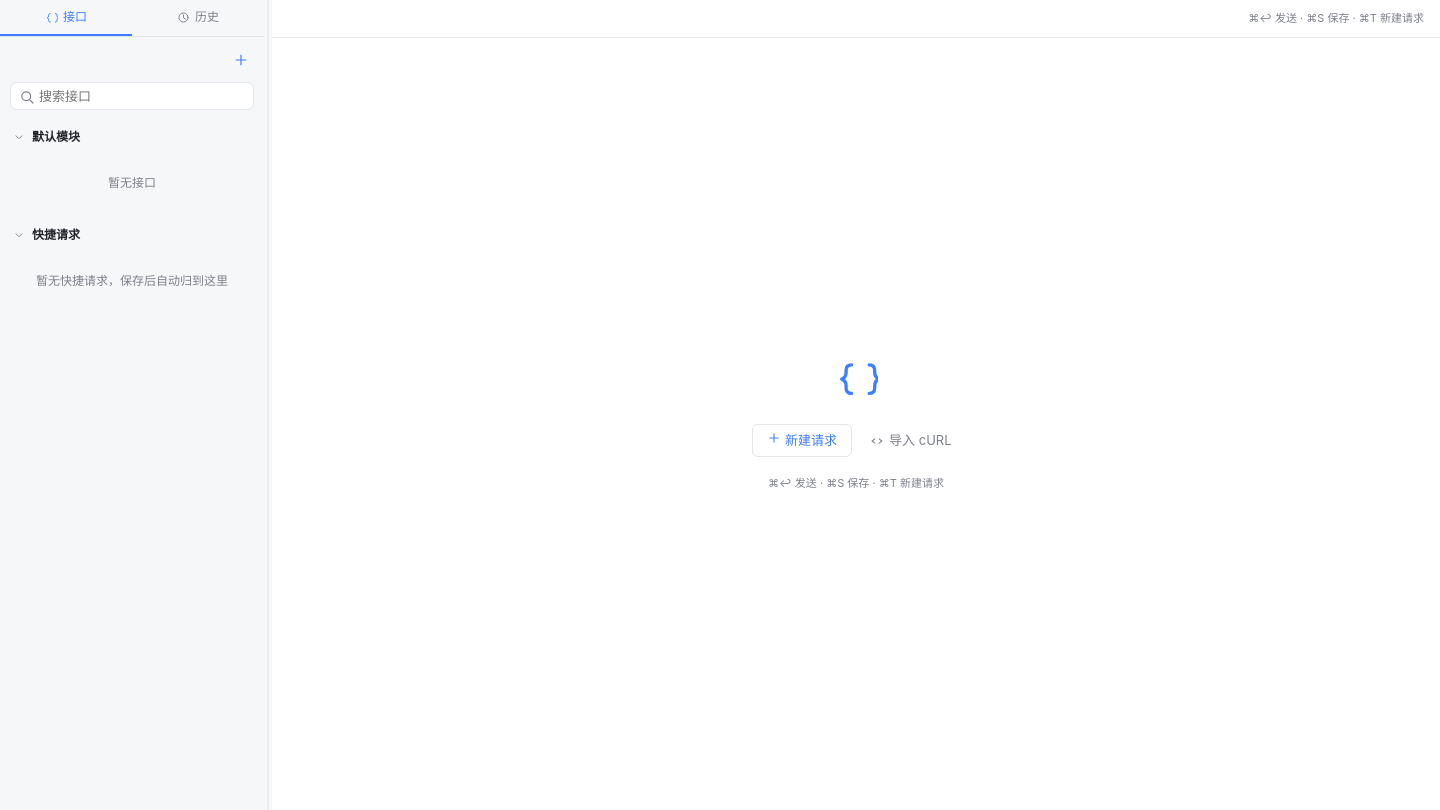
Test: environment config › folds the environment into generated code
Click the button "新建请求" at {"x": 802, "y": 441}, box [752,424,852,457]
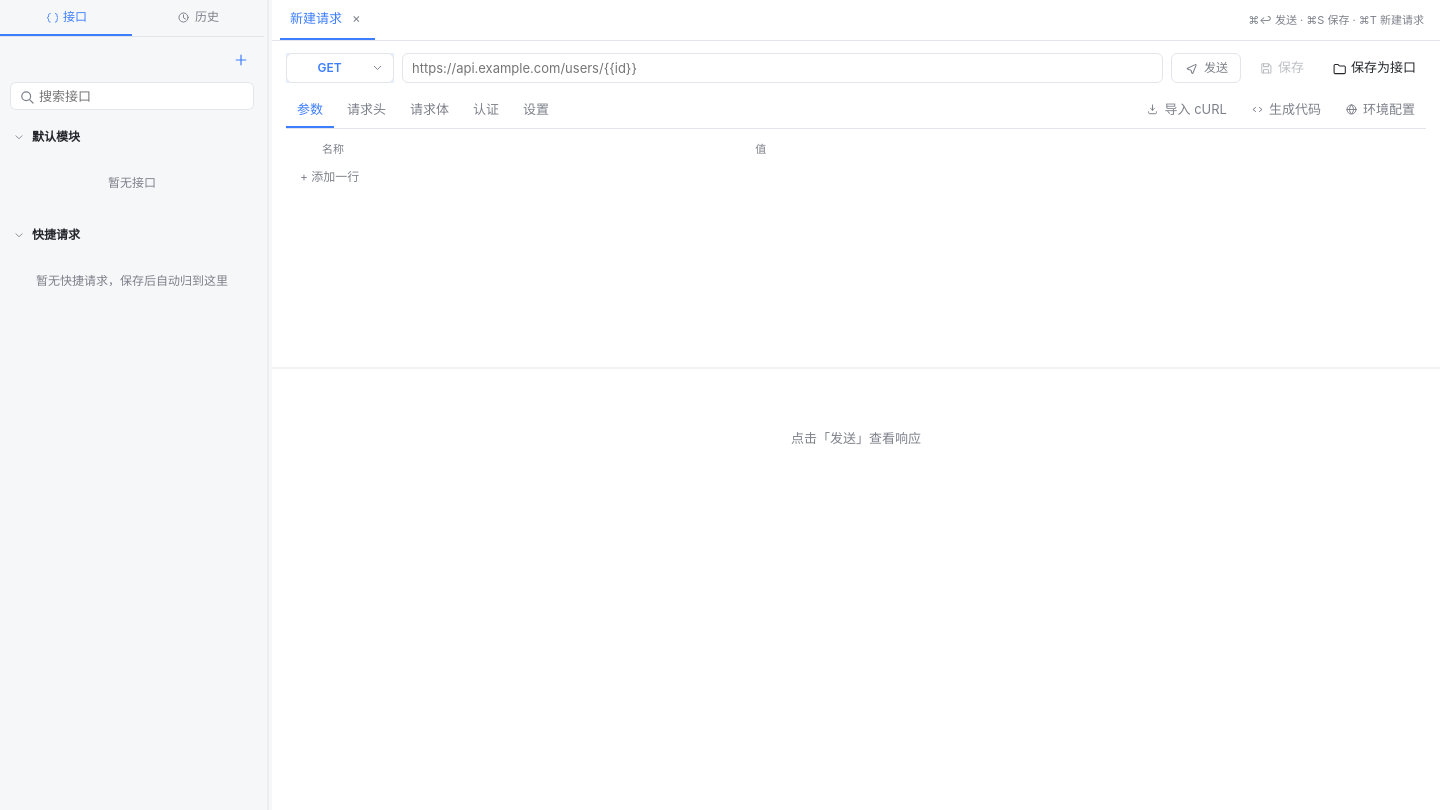
Type "/users/1" into the field named "地址" at {"x": 782, "y": 68}, box [402,52,1163,82]
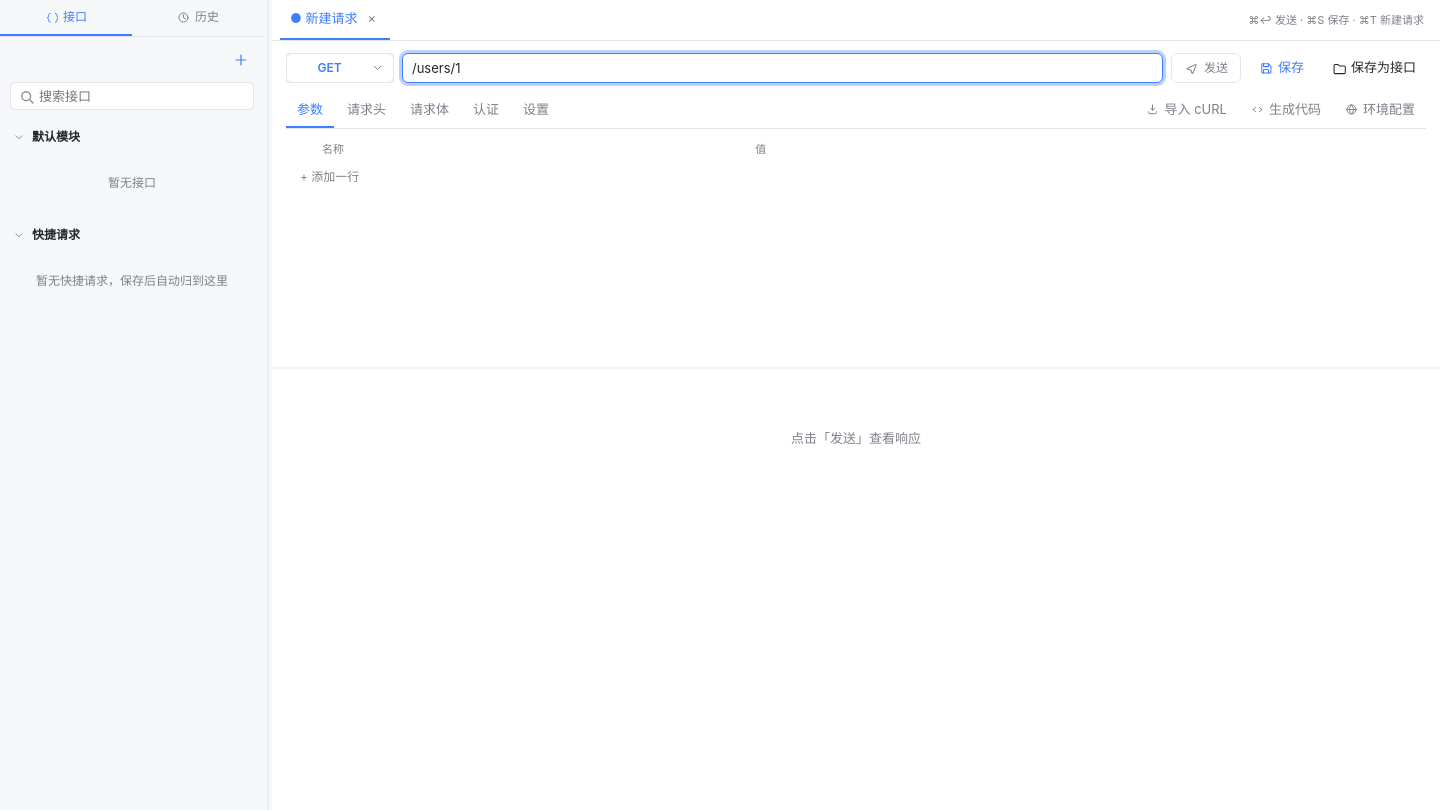
Click the button "环境配置" at {"x": 1380, "y": 110}, box [1334,92,1426,128]
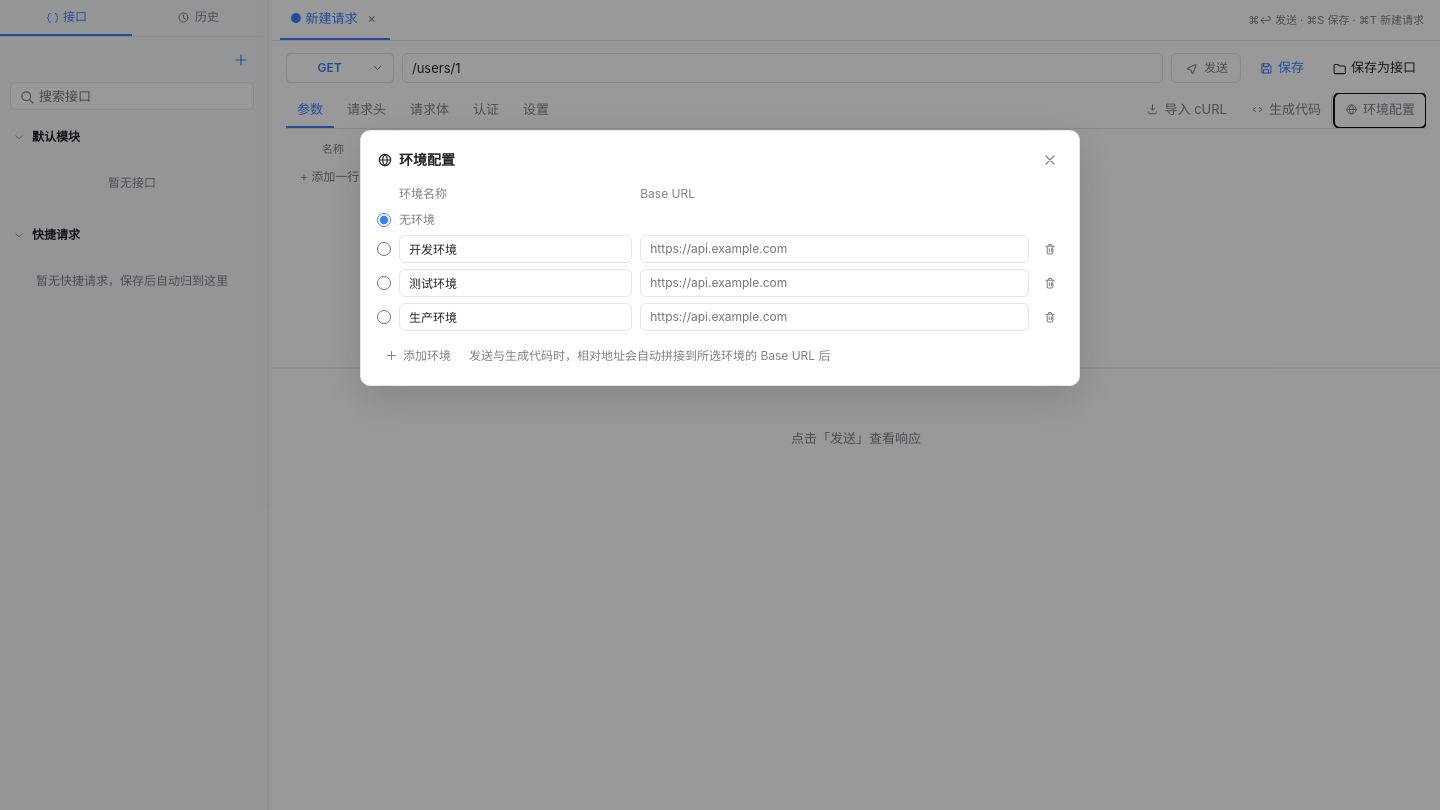
Expected: the 1st field showing "开发环境" is shown, [399,235,632,263]
Expected: the 2nd field showing "测试环境" is shown, [399,269,632,297]
Expected: the 3rd field showing "生产环境" is shown, [399,303,632,331]
Type "https://dev.example.com" into the field named "Base URL (开发环境)" at {"x": 835, "y": 249}, box [640,235,1029,263]
Click the radio button named "使用此环境: 开发环境" at {"x": 384, "y": 249}, box [377,242,391,256]
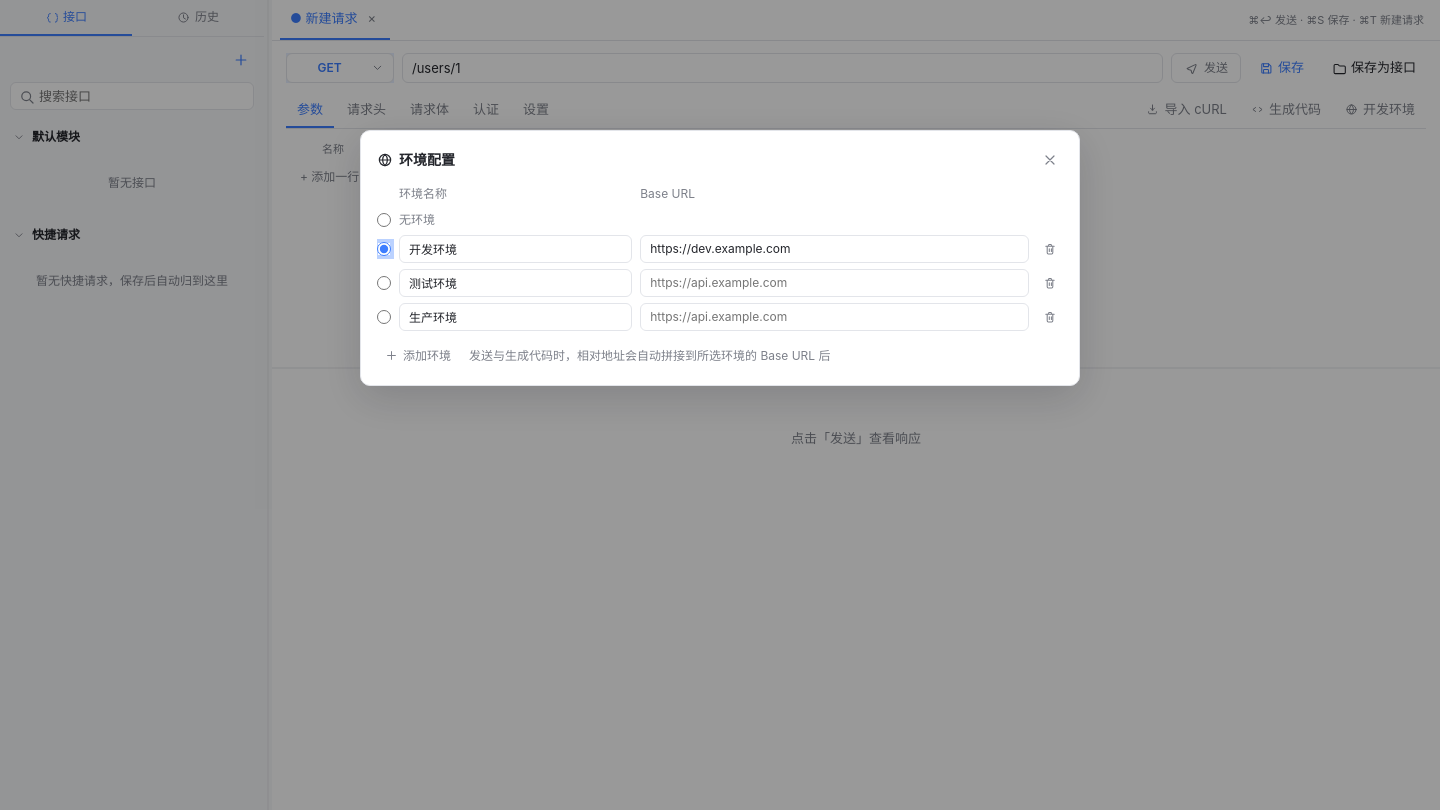
Click the button named "关闭" at {"x": 1050, "y": 160}, box [1037,147,1063,173]
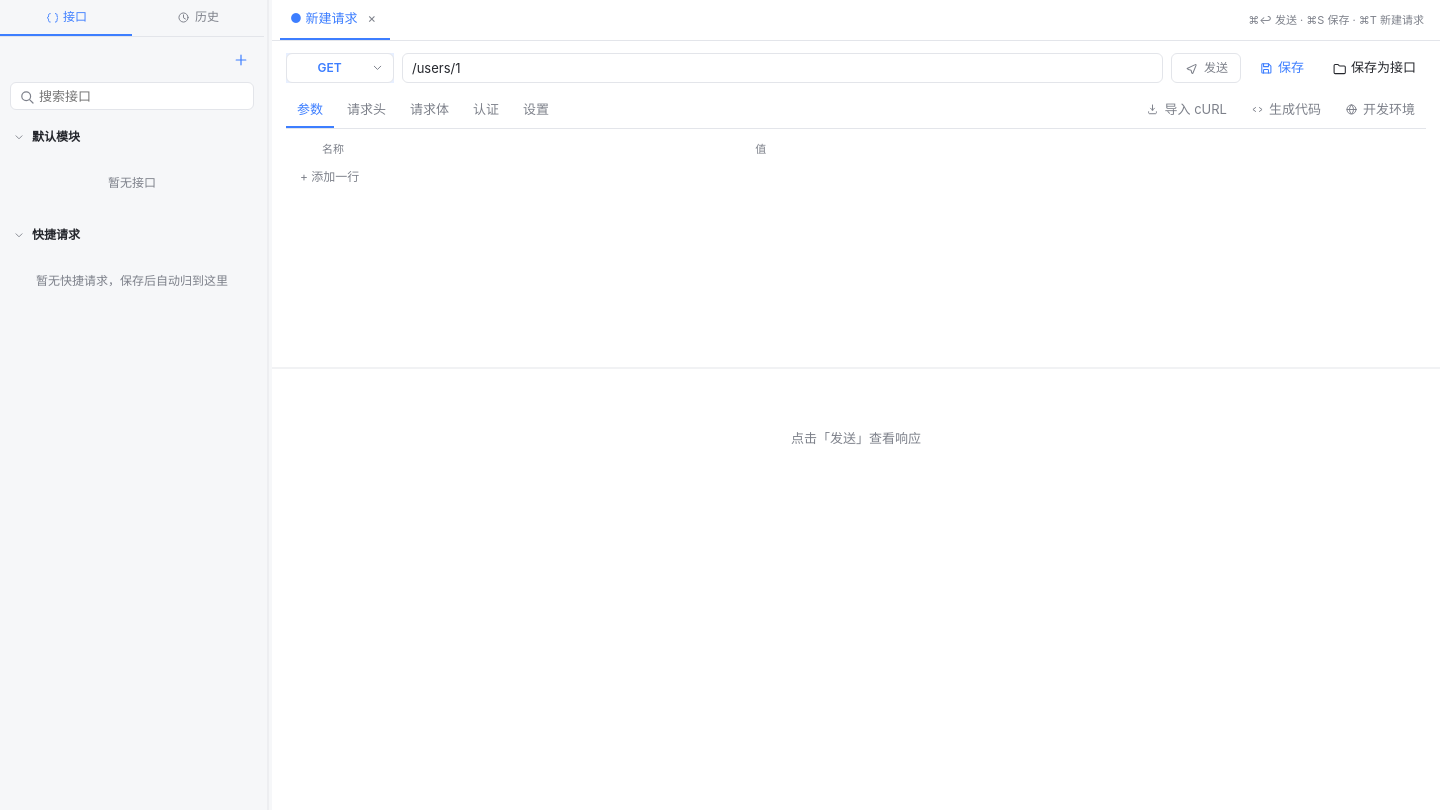
Click the button "生成代码" at {"x": 1286, "y": 110}, box [1240,92,1332,128]
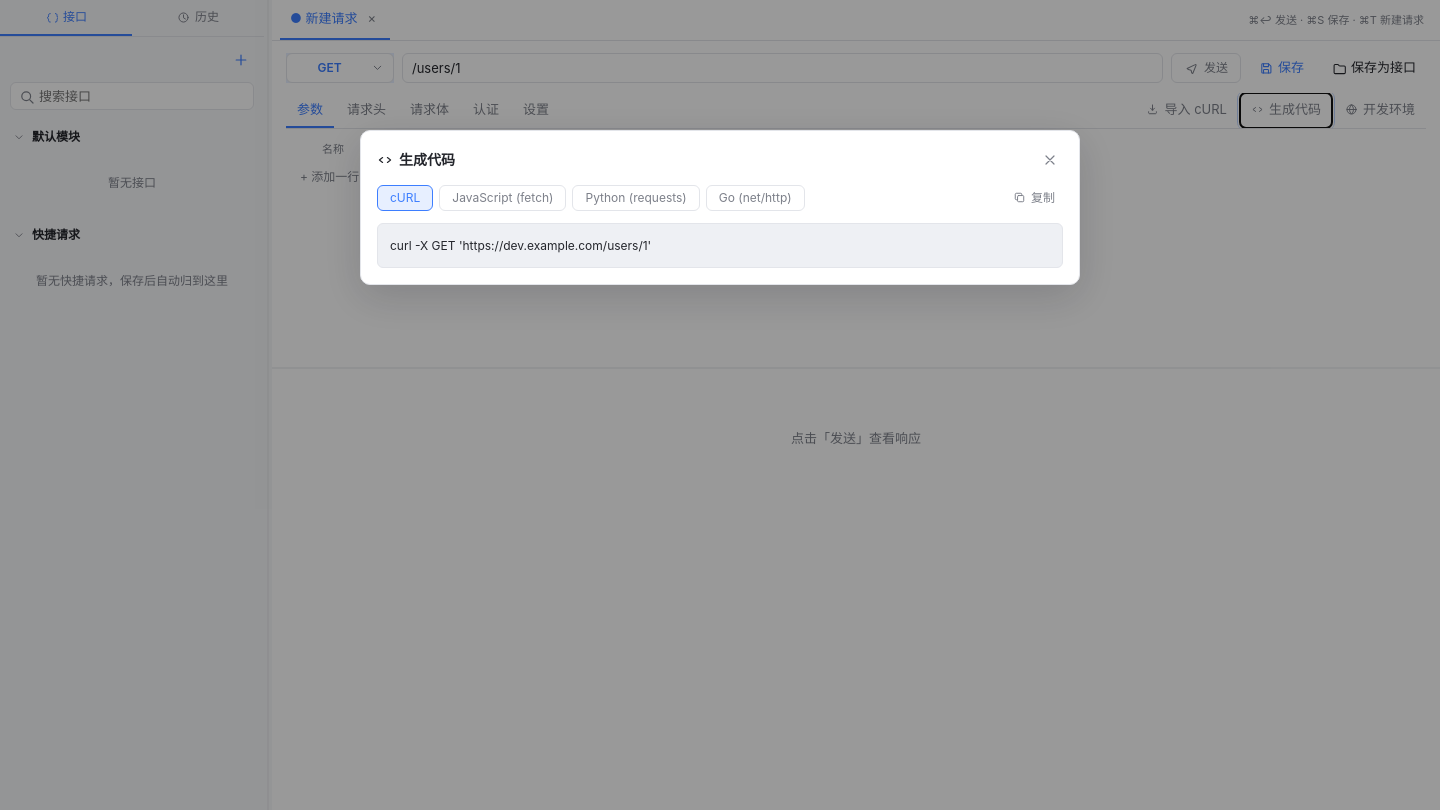
Expected: the text with class "dlg-code" shows "https://dev.example.com/users/1", [390,238,651,253]
